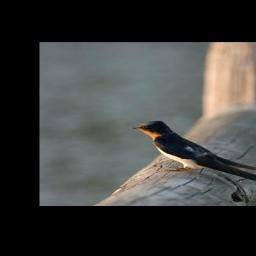Swallow: (127, 117, 256, 182)
